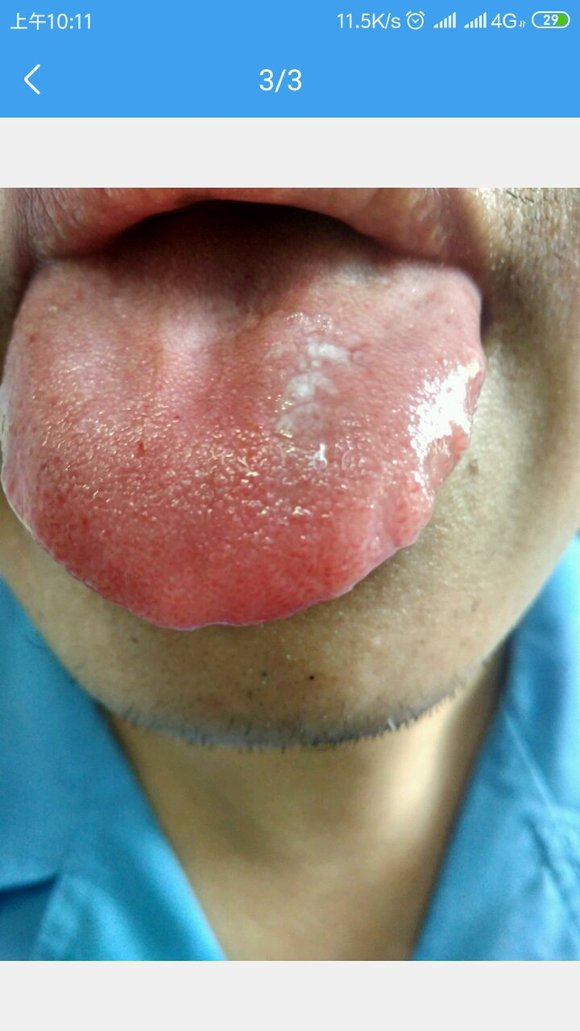baitaishe: (1, 226, 484, 630)
chihenshe: (351, 346, 485, 588)
hongdianshe: (10, 329, 93, 539)
hongshe: (1, 226, 484, 630)
pangdashe: (1, 226, 484, 630)
